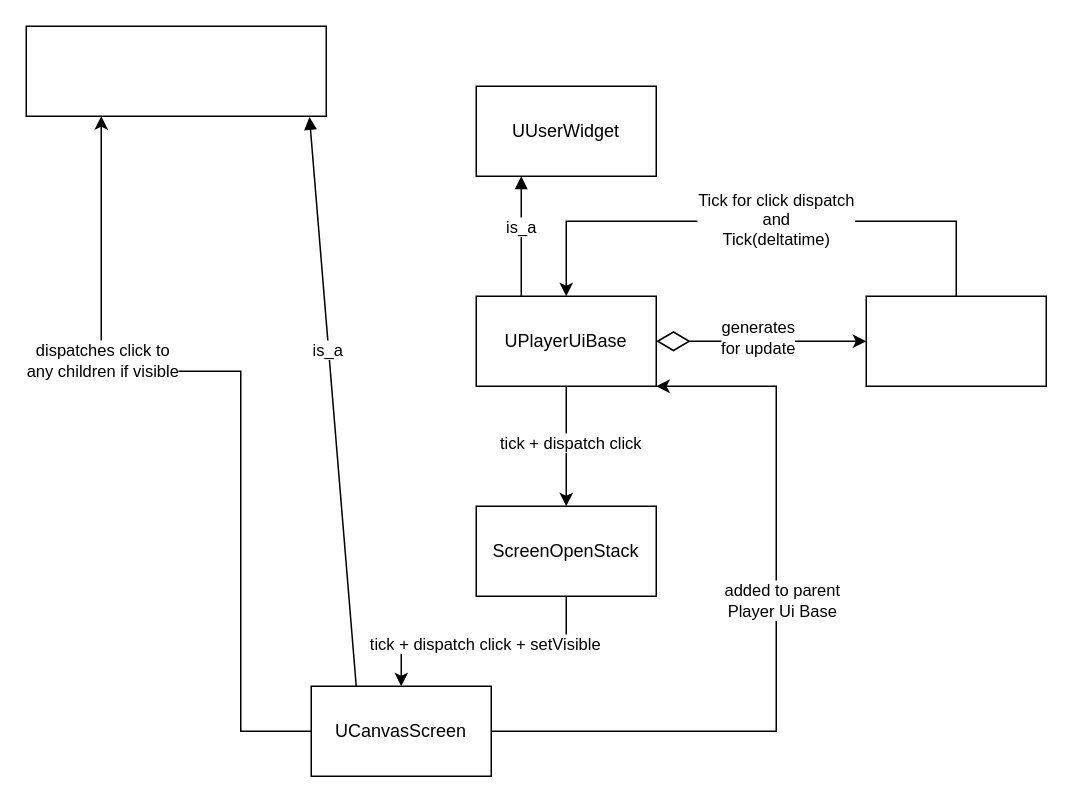
Some shapes in this 1073 by 803 pixel diagram are drawn without their labels. Here are the shapes that lost their labels. From the top down, the box of each, then its label:
(25, 25, 326, 116): UcustomUiComponentBase (dispatchClick(), setVisible(), Tick())
(865, 295, 1046, 386): AUiActor
